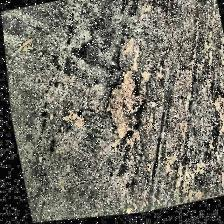pothole: (91, 58, 164, 152), (200, 90, 224, 146)
